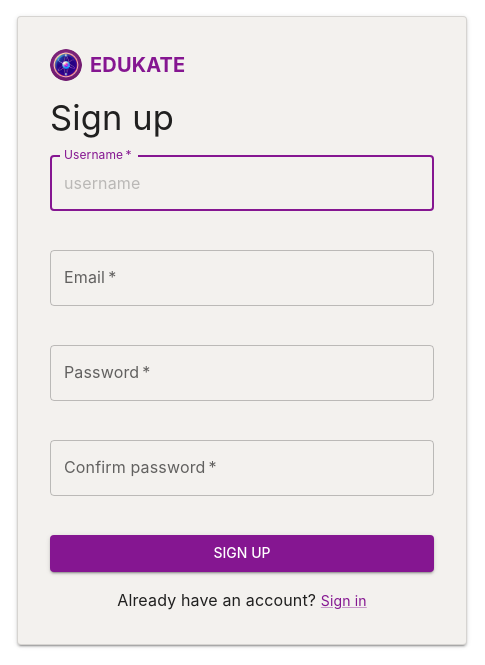
SignUpForm › shows all validation errors when submitted with empty fields
What coordinates should you click on to do the following:
click the button "Sign up"
I would click on:
 (242, 553)
Its box is [50,535,434,572].
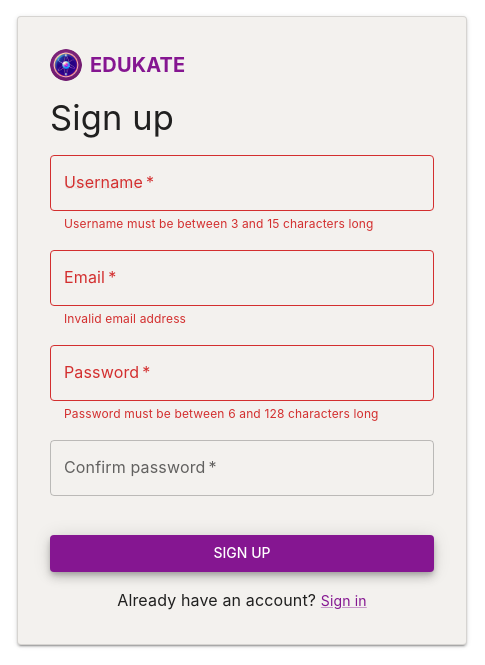
Now the text "Username must be between 3 and 15 characters long" is shown, box [64,214,420,234]
Now the text "Invalid email address" is shown, box [64,311,186,326]
Now the text "Password must be between 6 and 128 characters long" is shown, box [64,404,420,424]
